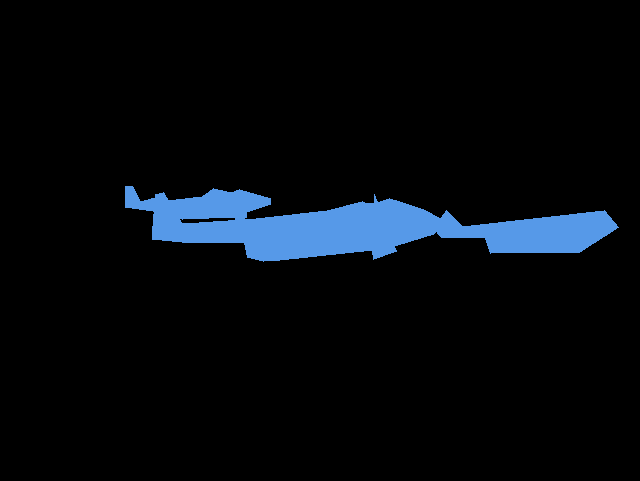Airplane: (152, 192, 444, 262), (433, 210, 619, 254), (125, 186, 271, 221)
